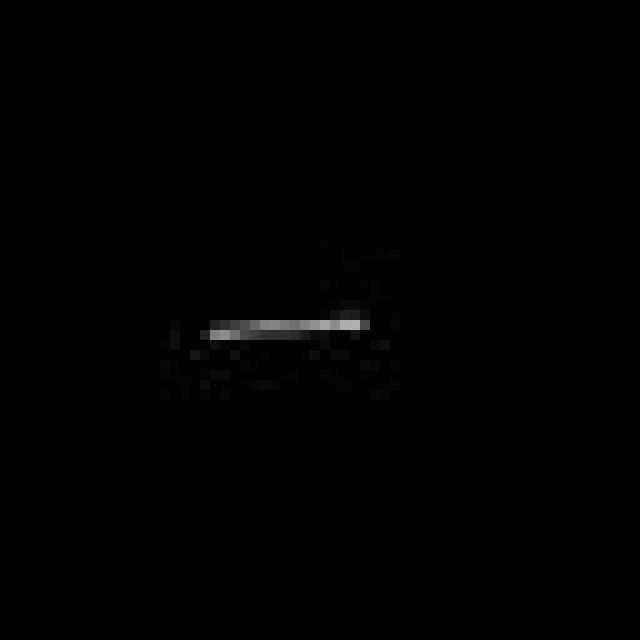1 -one-: (200, 310, 368, 352)
